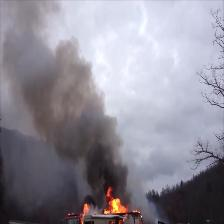fire: (107, 198, 127, 216)
smoke: (30, 60, 93, 135), (89, 142, 121, 183)
